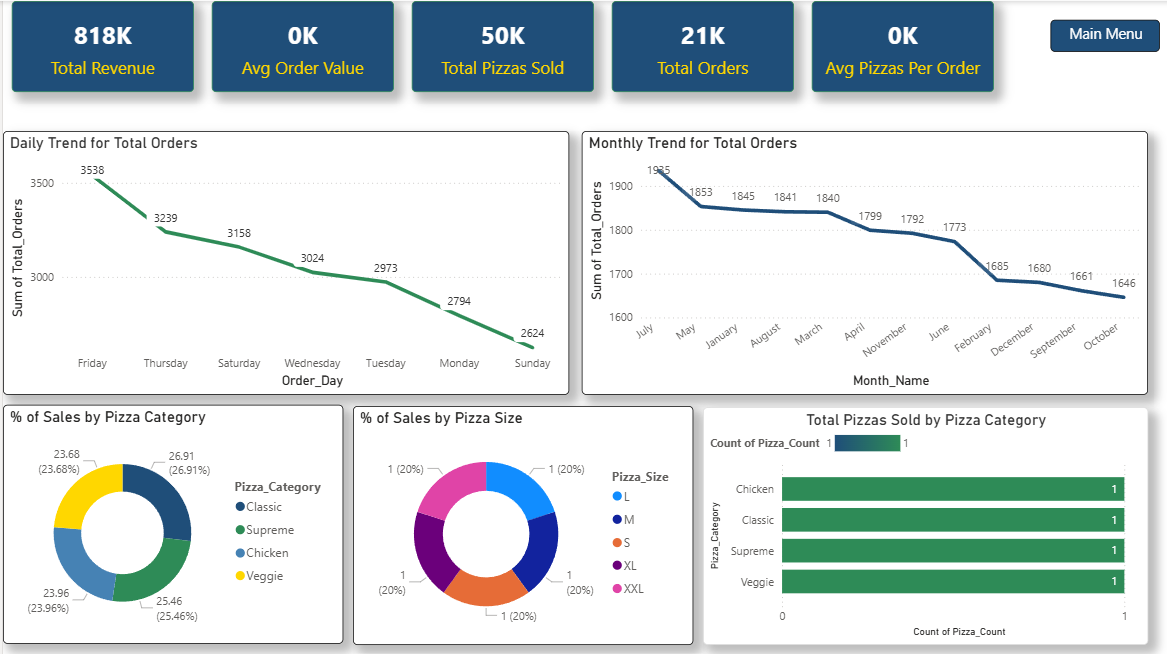

The dashboard page shown, as its layout file describes it:
{"tool":"powerbi","page":{"name":"Home","canvas":[1280,720],"ordinal":1},"visuals":[{"type":"card","fields":{"Values":["Sum(vw_BasicKPIs.Total_Revenue)"]},"box":[9.6,0,200,100],"z":0},{"type":"card","fields":{"Values":["Sum(vw_BasicKPIs.Avg_Order_Value)"]},"box":[229.3,0,200,100],"z":1000},{"type":"card","fields":{"Values":["Sum(vw_BasicKPIs.Total_Pizzas_Sold)"]},"box":[449,0,200,100],"z":2000},{"type":"card","fields":{"Values":["Sum(vw_BasicKPIs.Total_Orders)"]},"box":[668.7,0,200,100],"z":3000},{"type":"card","fields":{"Values":["Sum(vw_BasicKPIs.Avg_Pizzas_Per_Order)"]},"box":[888.4,0,200,100],"z":4000},{"type":"lineChart","title":"Daily Trend for Total Orders","fields":{"Category":["vw_DailyOrders.Order_Day"],"Y":["Sum(vw_DailyOrders.Total_Orders)"]},"box":[0,142.7,621.6,289.5],"z":5000},{"type":"lineChart","title":"Monthly Trend for Total Orders","fields":{"Category":["vw_MonthlyOrders.Month_Name"],"Y":["Sum(vw_MonthlyOrders.Total_Orders)"]},"box":[635.3,142.7,621.6,289.5],"z":6000},{"type":"donutChart","title":"% of Sales by Pizza Category","fields":{"Category":["vw_RevenueByCategory.Pizza_Category"],"Y":["Sum(vw_RevenueByCategory.Percentage)"]},"box":[0,443.2,373.2,262.1],"z":7000},{"type":"donutChart","title":"% of Sales by Pizza Size","fields":{"Category":["vw_RevenueBySize.Pizza_Size"],"Y":["CountNonNull(vw_RevenueBySize.Percentage)"]},"box":[384.2,444.6,373.2,262.1],"z":8000},{"type":"barChart","title":"Total Pizzas Sold by Pizza Category","fields":{"Y":["CountNonNull(vw_PizzaCountByCategory.Pizza_Count)"],"Category":["vw_PizzaCountByCategory.Pizza_Category"]},"box":[768.4,446,488.5,260.7],"z":9000},{"type":"actionButton","title":"Main Menu","box":[1150,20,120,35],"z":10000}]}

Visuals, with their boxes in screenshot pixels (x1, y1, x2, y2), scaled from the page's 1280x720 canvas onto the 1167x654 screenshot:
card - Sum(vw_BasicKPIs.Total_Revenue): <region>9, 0, 191, 91</region>
card - Sum(vw_BasicKPIs.Avg_Order_Value): <region>209, 0, 391, 91</region>
card - Sum(vw_BasicKPIs.Total_Pizzas_Sold): <region>409, 0, 592, 91</region>
card - Sum(vw_BasicKPIs.Total_Orders): <region>610, 0, 792, 91</region>
card - Sum(vw_BasicKPIs.Avg_Pizzas_Per_Order): <region>810, 0, 992, 91</region>
"Daily Trend for Total Orders" lineChart: <region>0, 130, 567, 393</region>
"Monthly Trend for Total Orders" lineChart: <region>579, 130, 1146, 393</region>
"% of Sales by Pizza Category" donutChart: <region>0, 403, 340, 641</region>
"% of Sales by Pizza Size" donutChart: <region>350, 404, 691, 642</region>
"Total Pizzas Sold by Pizza Category" barChart: <region>701, 405, 1146, 642</region>
"Main Menu" actionButton: <region>1048, 18, 1158, 50</region>
